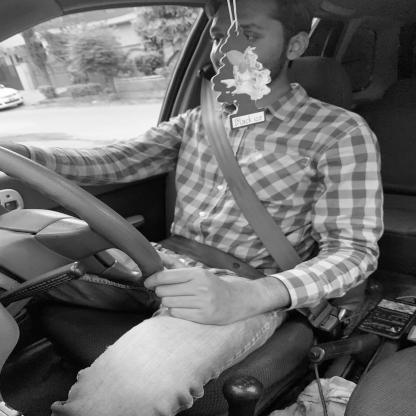seatbelt: (174, 0, 329, 250)
